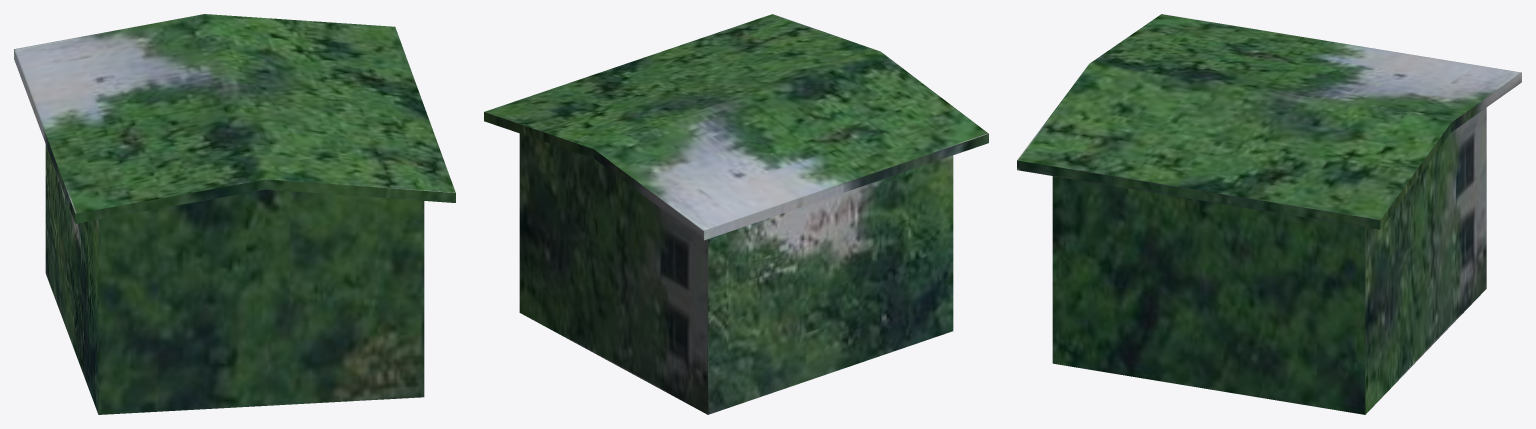
3 renders of one model, left to right at view 1: azimuth 30°, elevation 25°; view 2: azimuth 150°, elevation 25°; view 3: azimuth 270°, elevation 25°, orthographic. The views are drawn at different scales.
Visible parts, largest first — view 1: B288394044901062A0; view 2: B288394044901062A0; view 3: B288394044901062A0.
Part boxes in pixels (x1=…): B288394044901062A0: x1=14, y1=14, x2=455, y2=414; B288394044901062A0: x1=484, y1=14, x2=988, y2=414; B288394044901062A0: x1=1017, y1=14, x2=1521, y2=414.
Bounding box in the file's own units: 10.17 × 5.36 × 10.53.
1 material, 1 textured.
